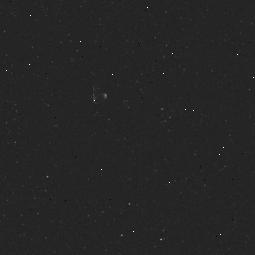debris: (82, 86, 114, 113)
